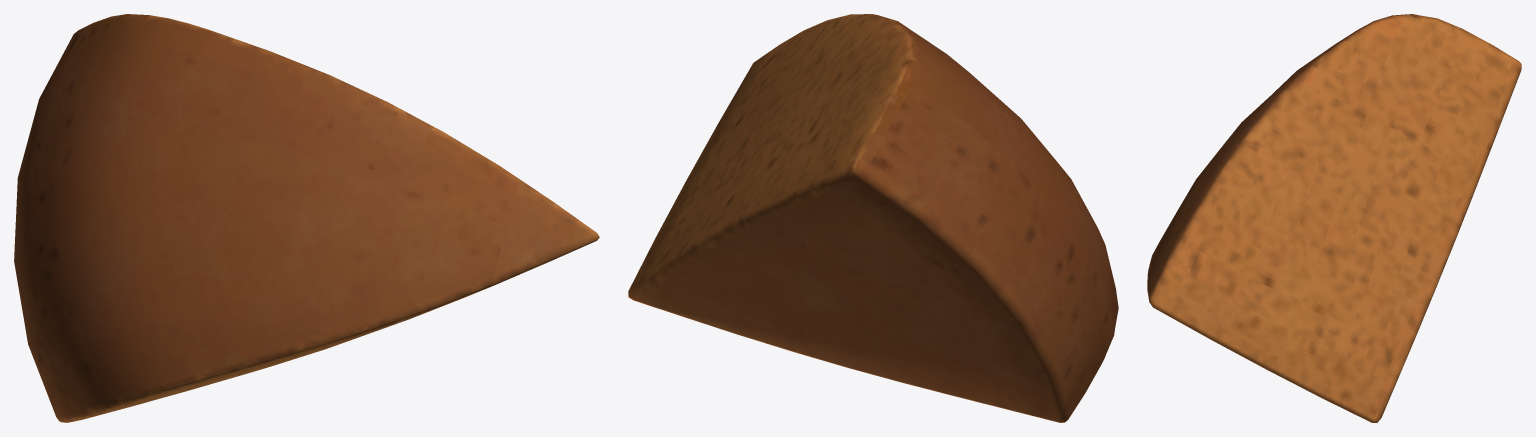
The model's file is ref_bffagao.fbx.
3 views of the same model, side by side, from view 1: azimuth 30°, elevation 25°; view 2: azimuth 150°, elevation 25°; view 3: azimuth 270°, elevation 25° (orthographic). The views are drawn at different scales.
Visible parts, largest first — view 1: ref_bffagao; view 2: ref_bffagao; view 3: ref_bffagao.
Boxes of the visible parts, <box> form: ref_bffagao: <box>14,14,599,422</box>; ref_bffagao: <box>628,14,1118,422</box>; ref_bffagao: <box>1147,14,1521,422</box>.
Bounding box in the file's own units: 100 × 77.32 × 84.48.
Materials: 1 (1 with a texture image).
